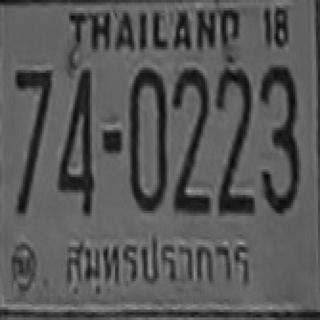N00: (128, 66, 165, 210)
N02: (172, 66, 208, 199), (216, 66, 252, 199)
N03: (259, 65, 299, 211)
N04: (56, 68, 92, 213)
N07: (13, 68, 52, 208), (13, 68, 52, 177), (13, 68, 52, 164), (13, 68, 52, 153)
P57: (62, 230, 253, 296)
